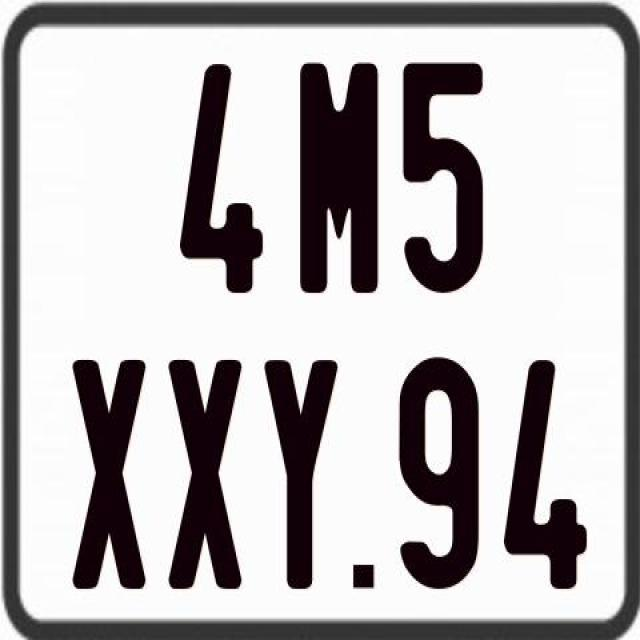4: (177, 64, 260, 299), (502, 358, 586, 589)
5: (402, 62, 489, 298)
9: (398, 357, 486, 596)
M: (298, 62, 382, 301)
X: (72, 355, 151, 592), (166, 356, 242, 594)
Y: (261, 358, 336, 594)
